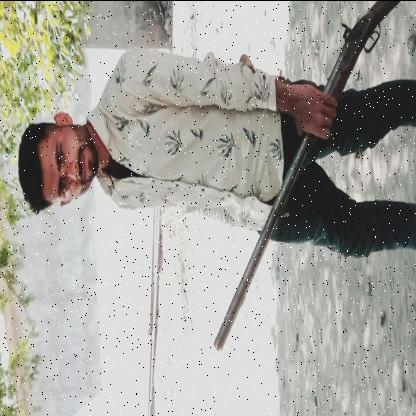rifle: (212, 0, 401, 354)
